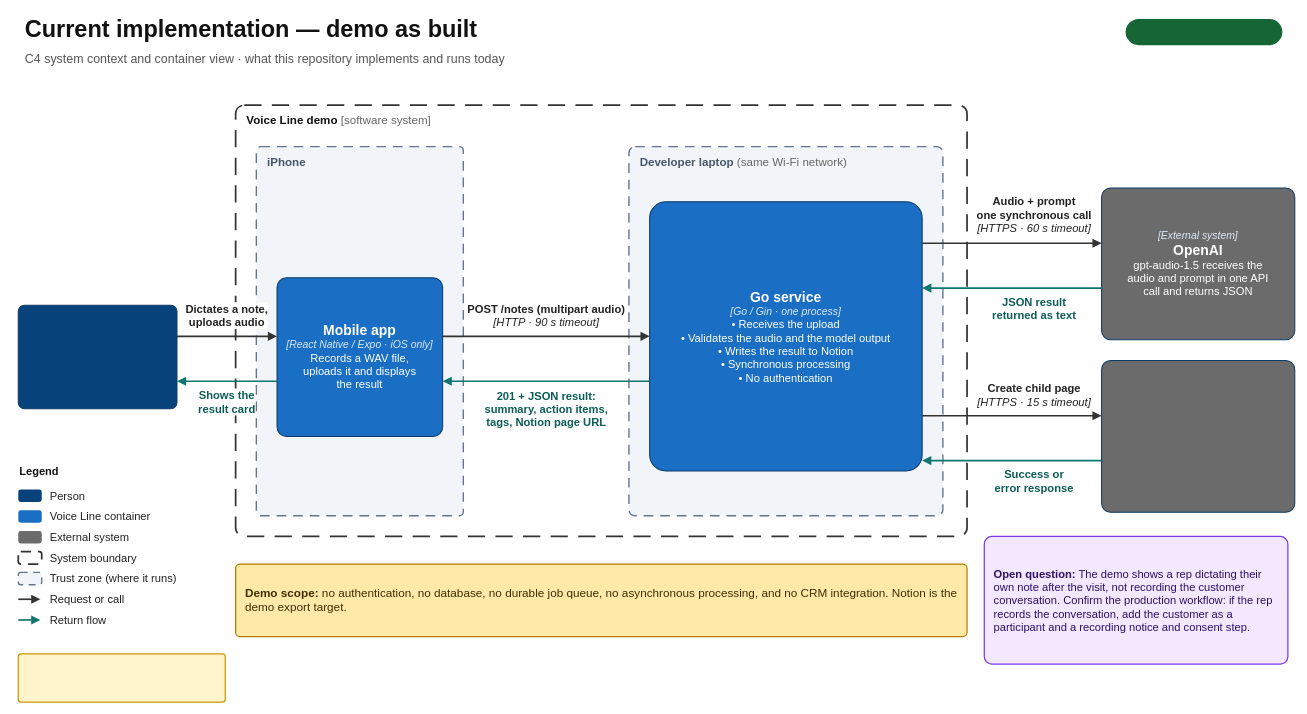
This 1307x714 diagram has some shape labels left out. The centre of each missing label's shape, as x and y in pixels:
"[External system] Notion Receives a child page under a private demo page" goes at point 1198,436.
"[Person] Sales rep Dictates a post-visit voice note on an iPhone" goes at point 97,356.
"IMPLEMENTED · runs today" goes at point 1203,32.
"Source: backend/, mobile/ and docs/demo-flow.md; timeouts as coded." goes at point 121,677.
